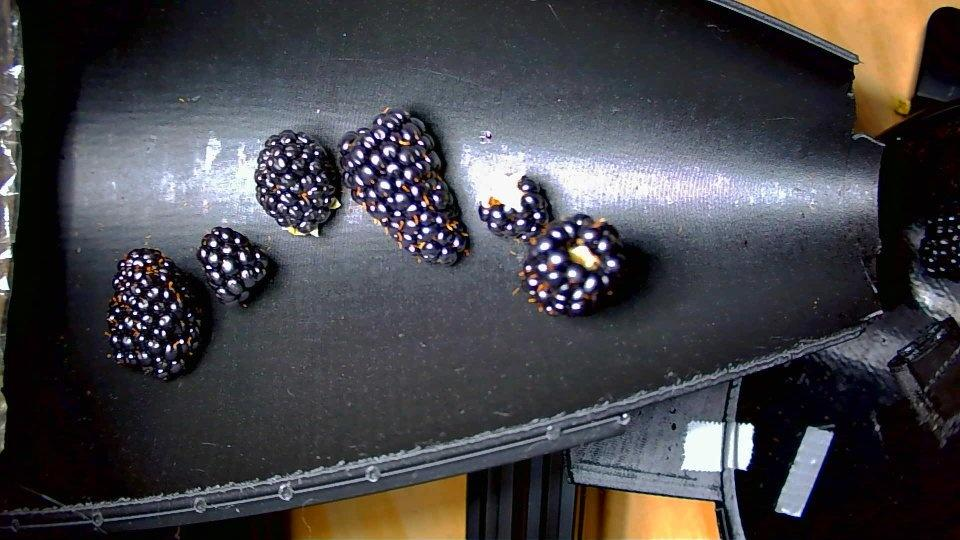berry: (339, 108, 468, 263), (106, 249, 203, 379), (519, 214, 624, 315), (255, 130, 338, 235), (196, 227, 271, 303), (478, 175, 549, 240), (919, 207, 959, 281)
